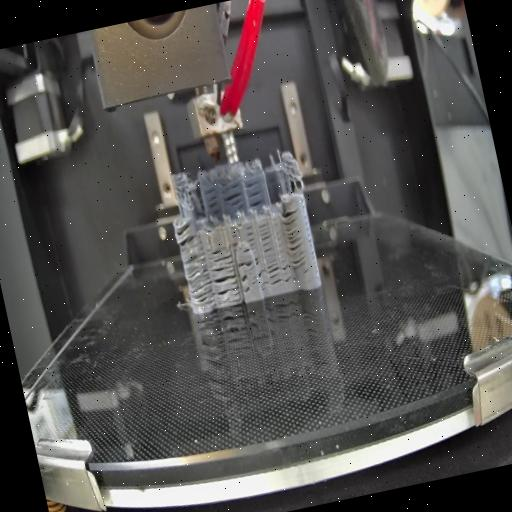cracks: (277, 204, 310, 266), (181, 250, 216, 308), (210, 264, 241, 304), (265, 256, 293, 289), (172, 216, 200, 248), (221, 178, 246, 213), (201, 182, 223, 218), (244, 177, 268, 209), (256, 220, 275, 252), (210, 244, 234, 264), (254, 256, 268, 290), (238, 270, 252, 296), (234, 257, 256, 270), (228, 225, 241, 246), (244, 224, 257, 244), (240, 244, 251, 254)
